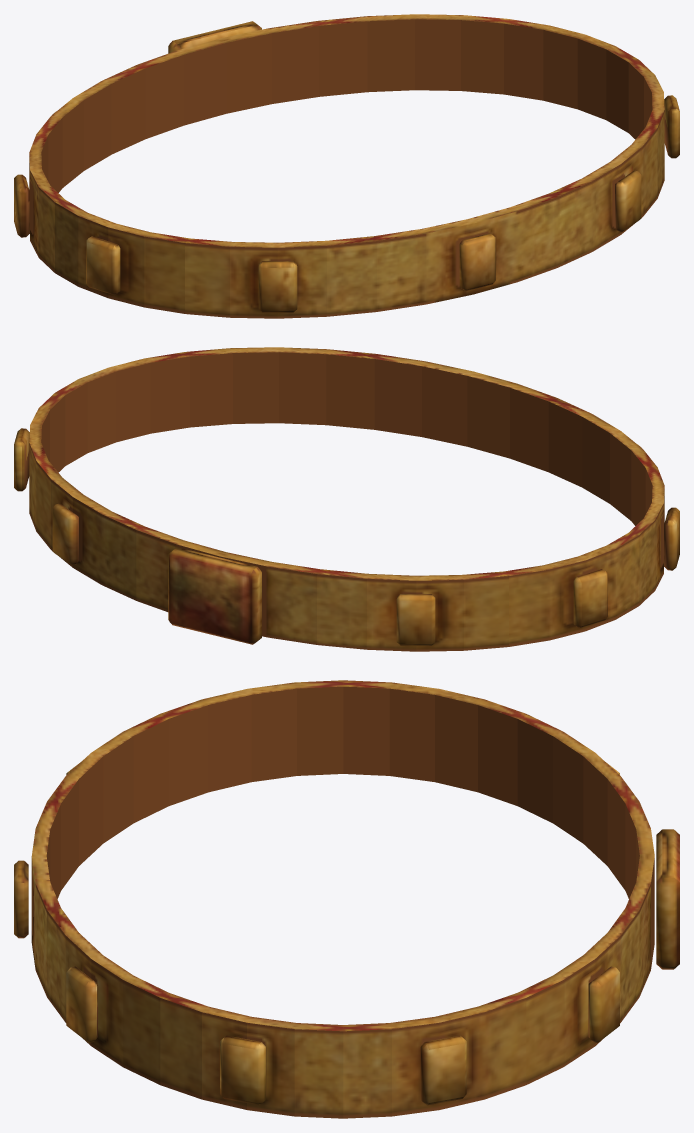
File: item_mm9_10150.glb
3 renders of one model, top to bottom at view 1: azimuth 30°, elevation 25°; view 2: azimuth 150°, elevation 25°; view 3: azimuth 270°, elevation 25°, orthographic. The views are drawn at different scales.
Parts seen in each view (by area): view 1: d10150; view 2: d10150; view 3: d10150.
Boxes of the visible parts, box(x1,y1,x2,y2) form: d10150: box(14, 14, 679, 318); d10150: box(14, 347, 679, 651); d10150: box(14, 680, 679, 1118).
Size of the model in its own units: 61.2 by 7.39 by 48.64.
Materials: 1 (1 with a texture image).
